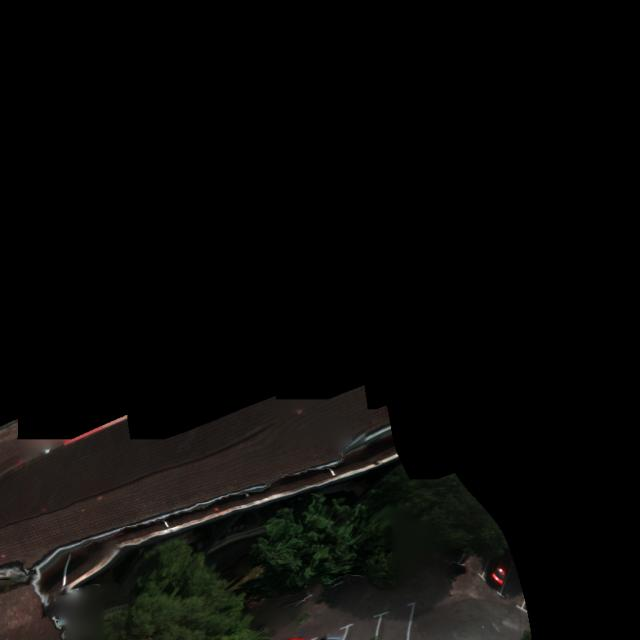blur tree: (104, 538, 274, 640), (248, 494, 400, 592), (360, 463, 510, 559)
